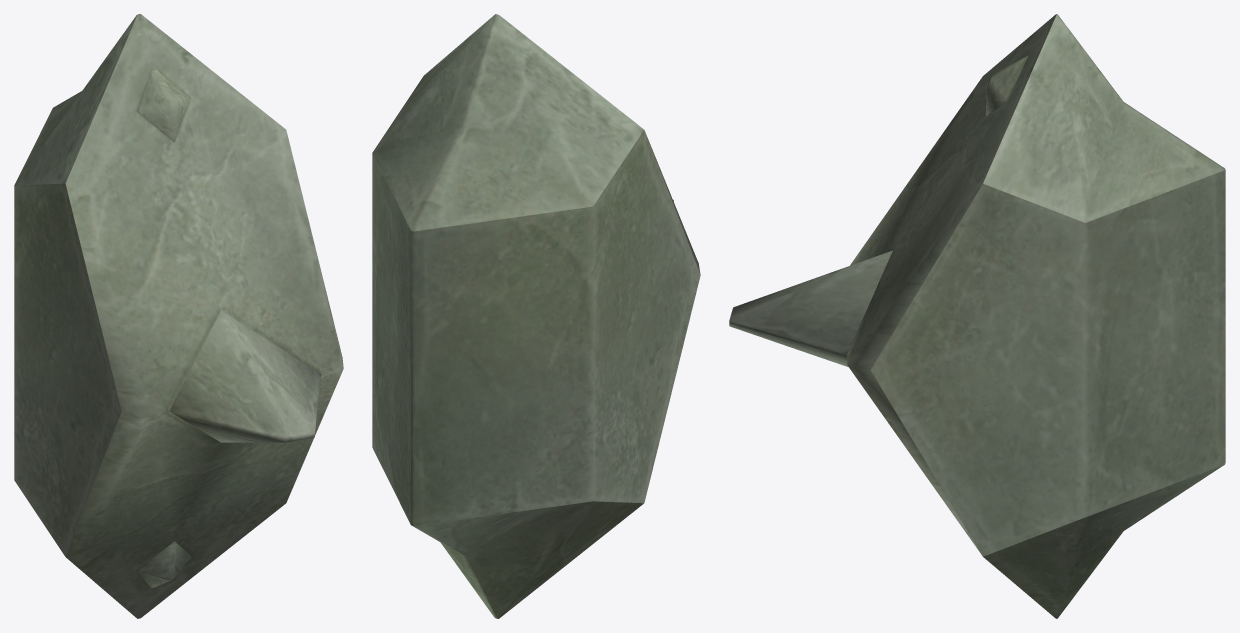
File: Ruins_Trim_Cap_2M_B.fbx
3 views of the same model, side by side, from view 1: azimuth 30°, elevation 25°; view 2: azimuth 150°, elevation 25°; view 3: azimuth 270°, elevation 25° (orthographic).
Visible parts, largest first — view 1: Ruins_Trim_Cap_2M_B; view 2: Ruins_Trim_Cap_2M_B; view 3: Ruins_Trim_Cap_2M_B.
Boxes of the visible parts, x1,y1,x2,y2 form: Ruins_Trim_Cap_2M_B: (14,14,343,618); Ruins_Trim_Cap_2M_B: (372,14,700,618); Ruins_Trim_Cap_2M_B: (729,14,1225,618).
Bounding box in the file's own units: 196 × 512 × 382.
